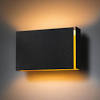ac: (12, 24, 86, 74)
